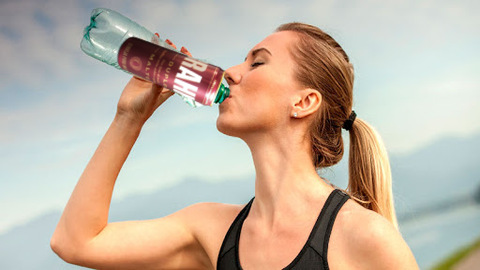duplo_malte: (112, 35, 227, 109)
